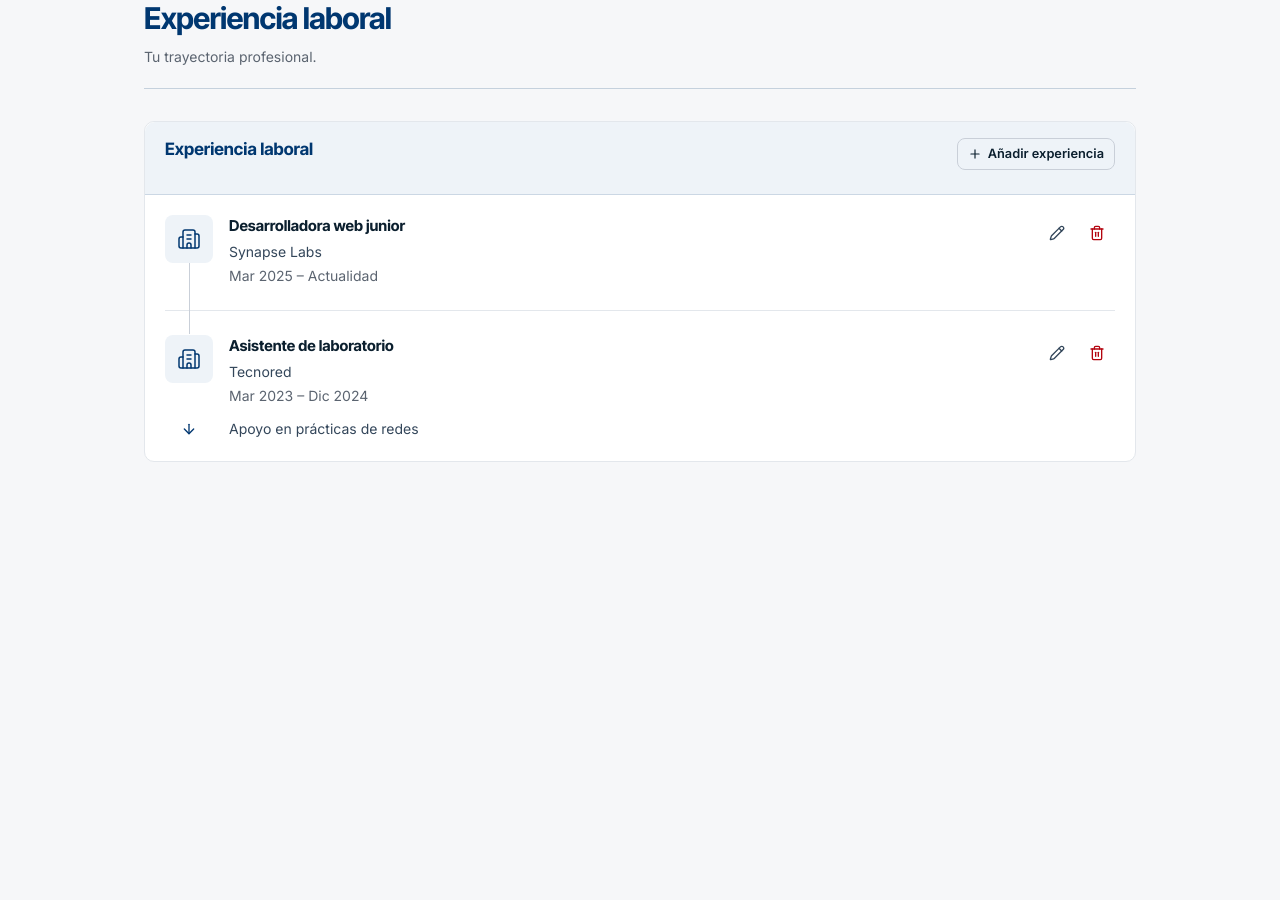
WorkExperienceView › deletes the experience after confirming and reloads the list
This screenshot has width=1280, height=900.
expect the heading "Asistente de laboratorio" is shown: met, box [229,336,394,355]
Click the button named "Eliminar Asistente de laboratorio" at [1097, 353], box [1079,335,1115,371]
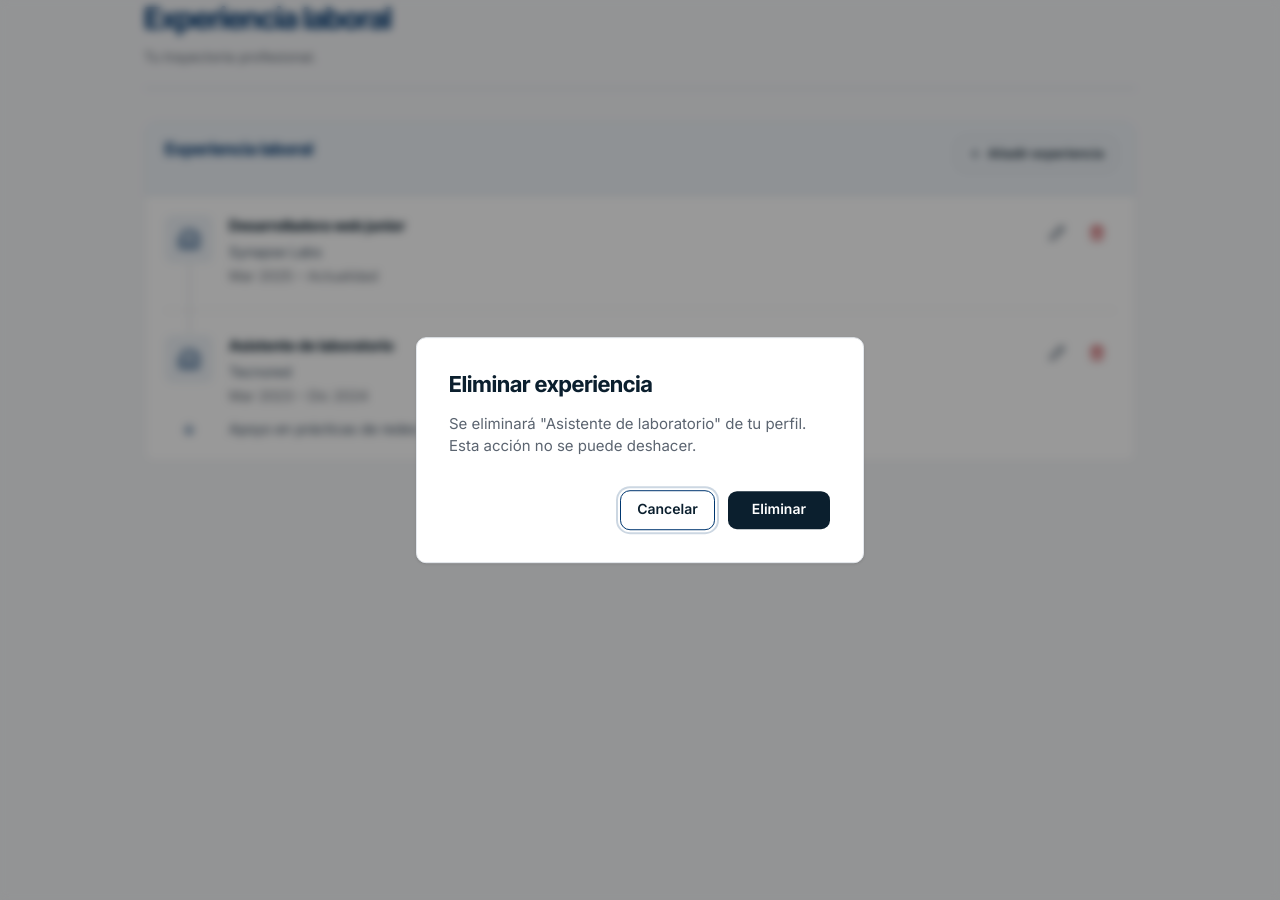
Click the button "Eliminar" at [779, 510], box [727,490,831,530]
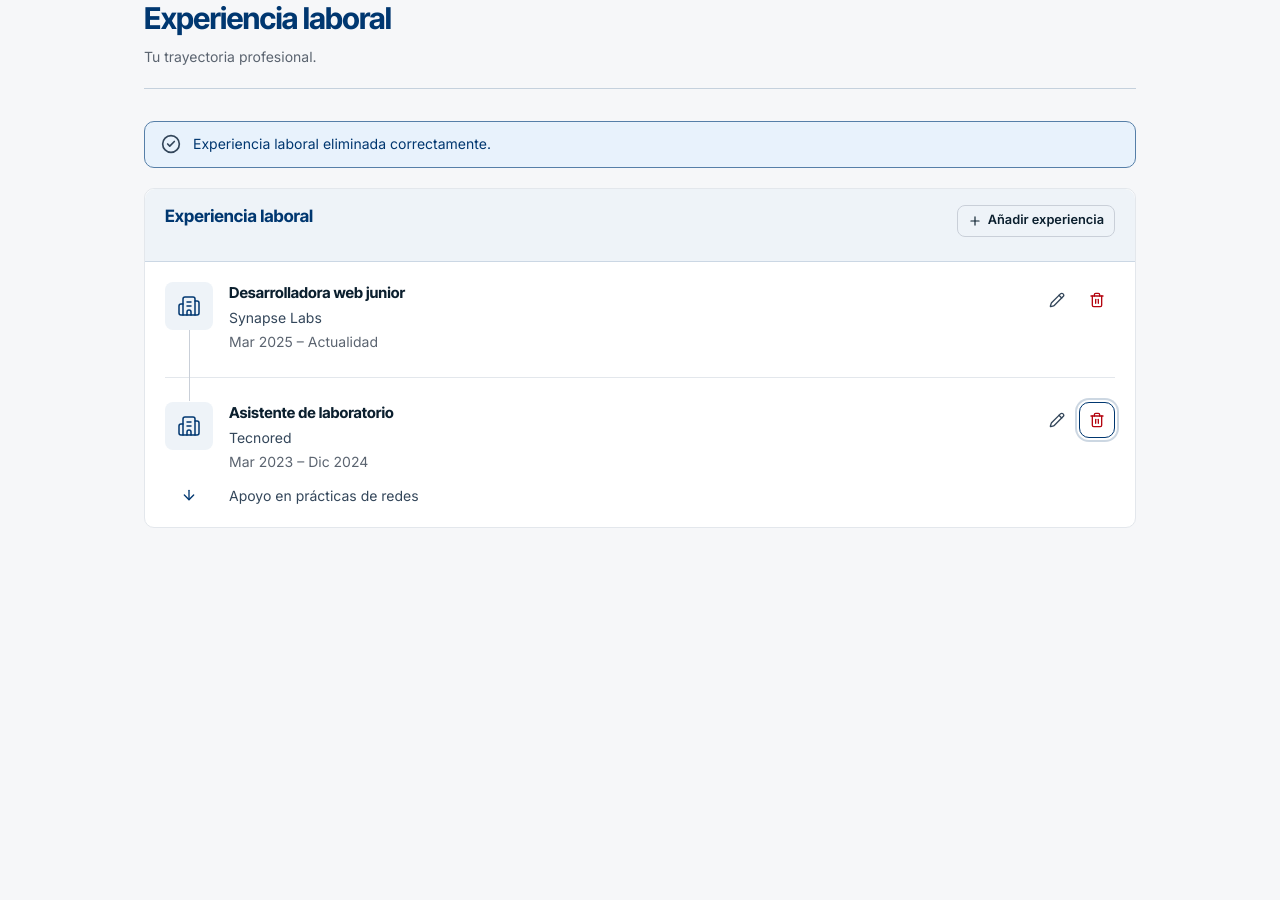
expect the message reads "Experiencia laboral eliminada correctamente.": met, box [193,135,491,152]
